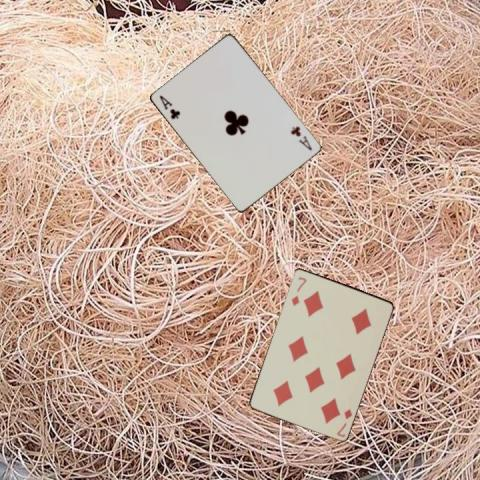7d: (289, 273, 308, 307), (334, 405, 353, 438)
Ac: (288, 123, 313, 152), (157, 92, 182, 121)
